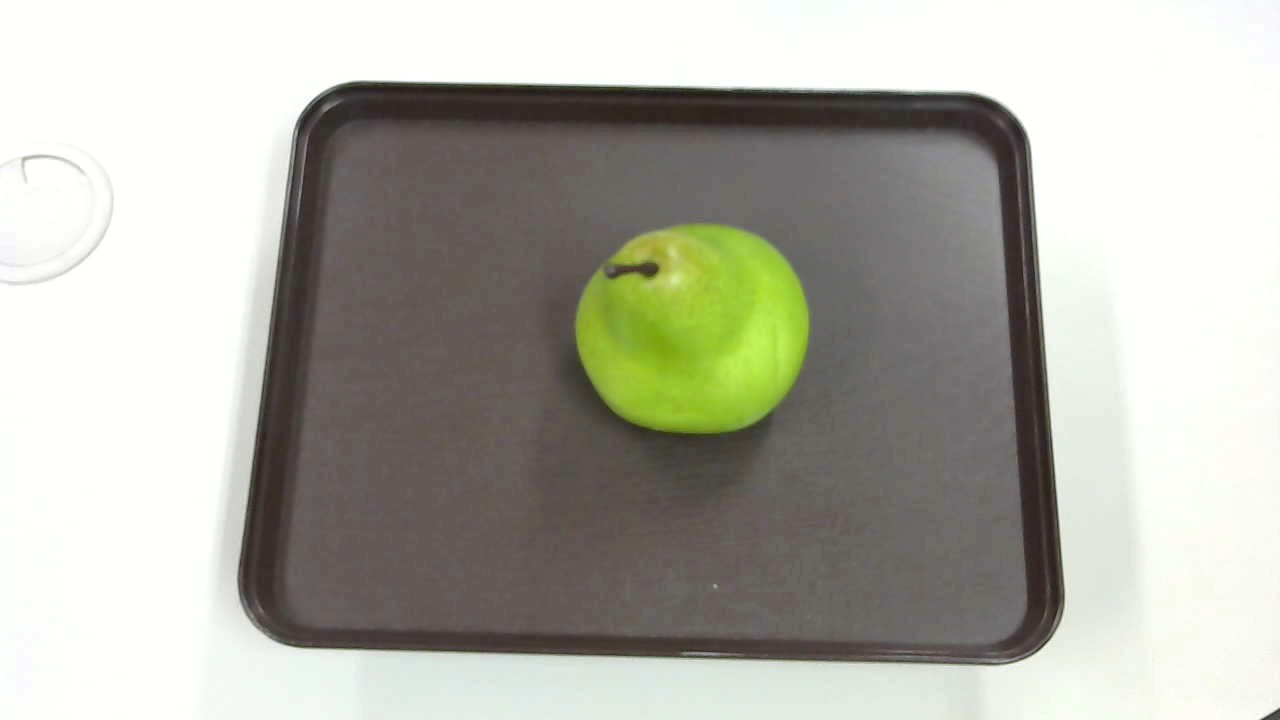green pear: (568, 219, 815, 437)
